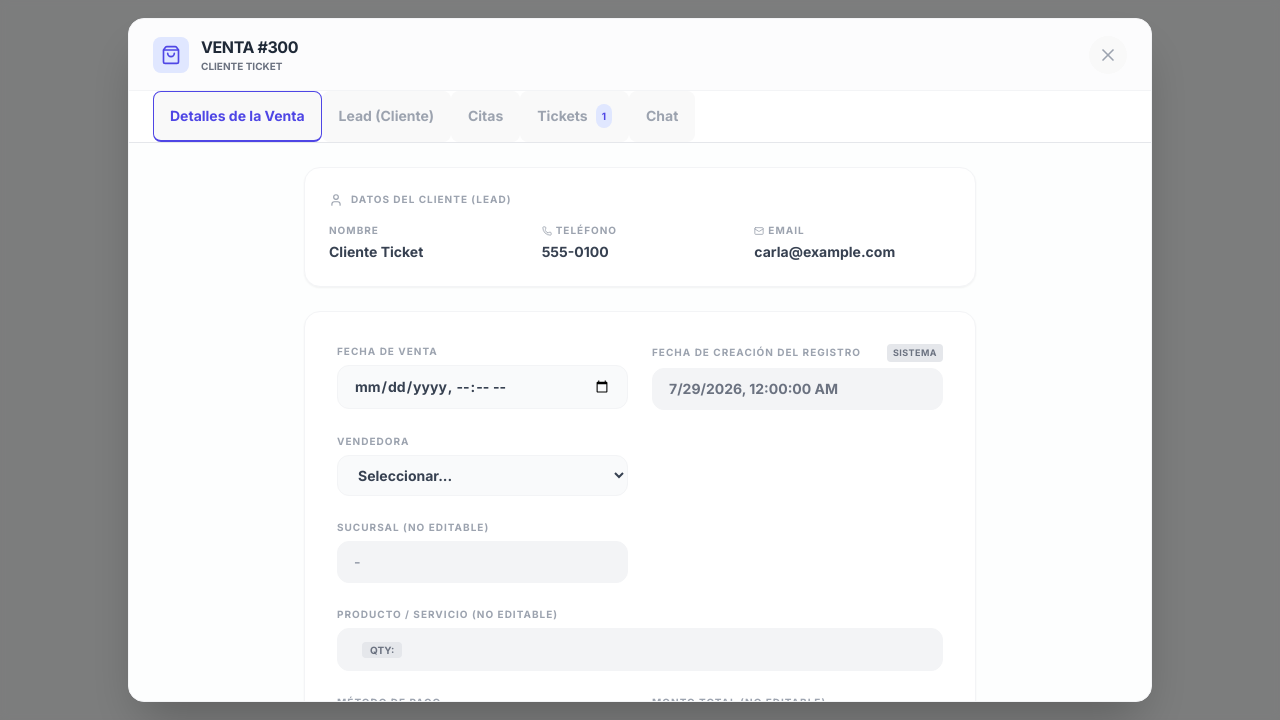
Test: SaleModal — ticket assignment (shared authority) › hides "Ticket y lead" when the actor cannot reassign the lead
This screenshot has width=1280, height=720.
Click the button "Tickets 1": (575,116) 520,91 -> 629,142
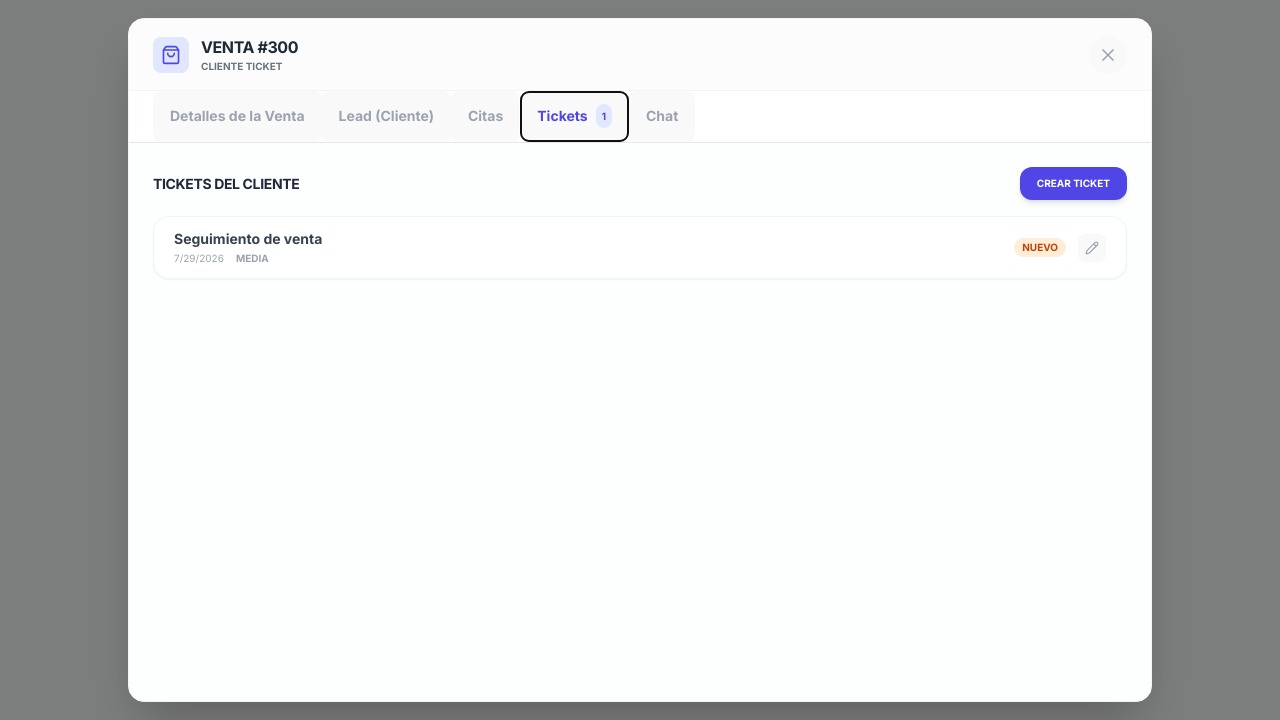
Click the button titled "Editar ticket": (1092,248) 1078,234 -> 1106,262
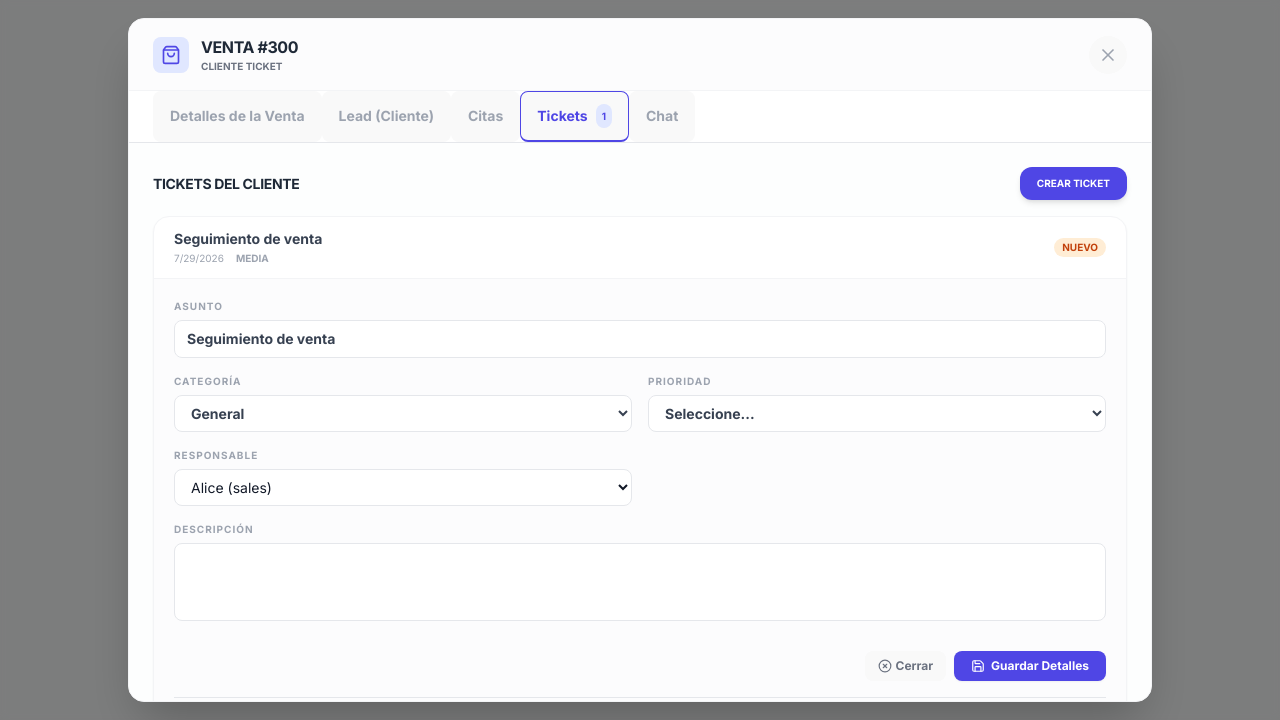
Select "Bruno (sales)" in the dropdown with test id "ticket-assignment-select": (403,488) 174,469 -> 632,506
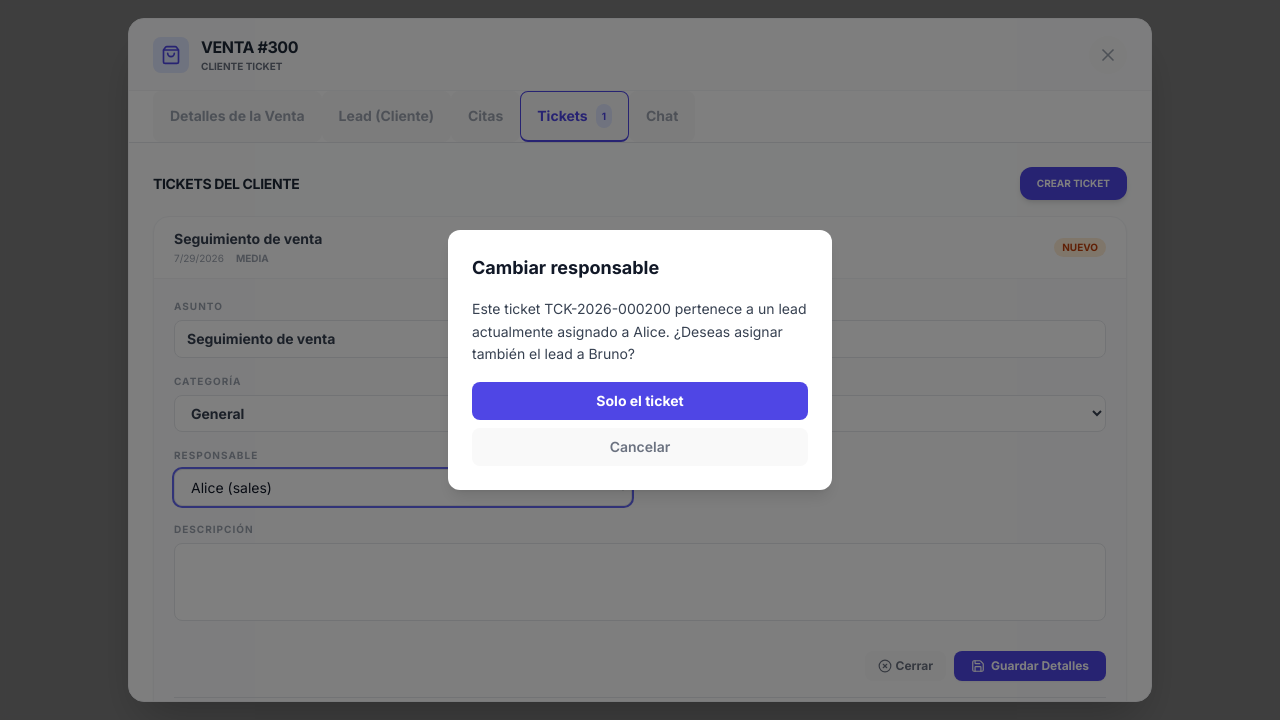
expect the dialog with test id "assignment-dialog" is shown: met, box 448,230 -> 832,490
